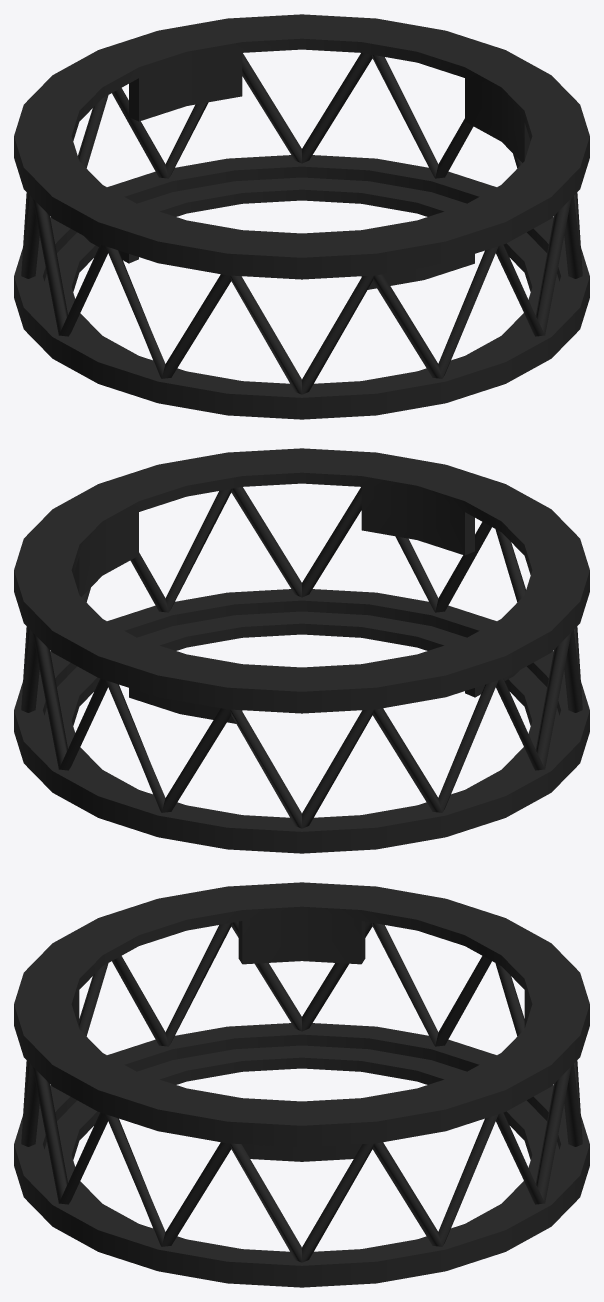
File: TLV_1_Decoupler_1_E.obj
3 views of the same model, one above another, from view 1: azimuth 30°, elevation 25°; view 2: azimuth 150°, elevation 25°; view 3: azimuth 270°, elevation 25° (orthographic).
Visible parts, largest first — view 1: TLV_1_Decoupler_1_E; view 2: TLV_1_Decoupler_1_E; view 3: TLV_1_Decoupler_1_E.
Part boxes in pixels (box(x1,y1,x2,y2)): TLV_1_Decoupler_1_E: box(14, 14, 589, 419); TLV_1_Decoupler_1_E: box(14, 448, 589, 853); TLV_1_Decoupler_1_E: box(14, 882, 589, 1287).
Bounding box in the file's own units: 1.5 × 0.465 × 1.5.
